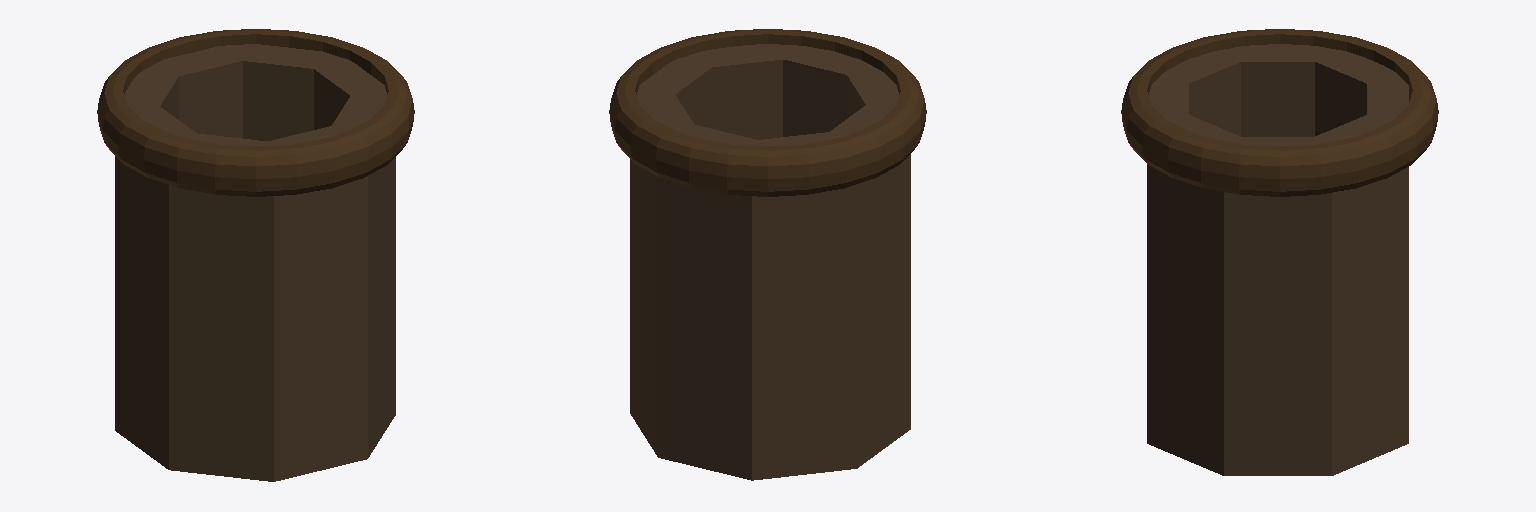
Rendered from Clothes-Hamper.obj.
3 views of the same model, side by side, from view 1: azimuth 30°, elevation 25°; view 2: azimuth 150°, elevation 25°; view 3: azimuth 270°, elevation 25° (orthographic).
Parts seen in each view (by area): view 1: mergedBlocks; view 2: mergedBlocks; view 3: mergedBlocks.
Part boxes in pixels (x1,y1,x2,y2): mergedBlocks: (97, 29, 414, 481); mergedBlocks: (609, 29, 926, 480); mergedBlocks: (1121, 29, 1438, 475).
Bounding box in the file's own units: 0.8055 × 0.9269 × 0.8055.